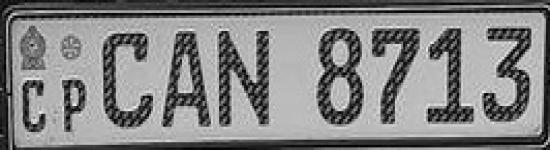1: (424, 23, 477, 128)
3: (481, 22, 534, 129)
7: (369, 22, 423, 129)
8: (308, 22, 367, 131)
A: (158, 24, 214, 132)
C: (99, 21, 159, 129), (19, 73, 54, 140)
N: (217, 24, 280, 134)
P: (59, 70, 91, 141)
